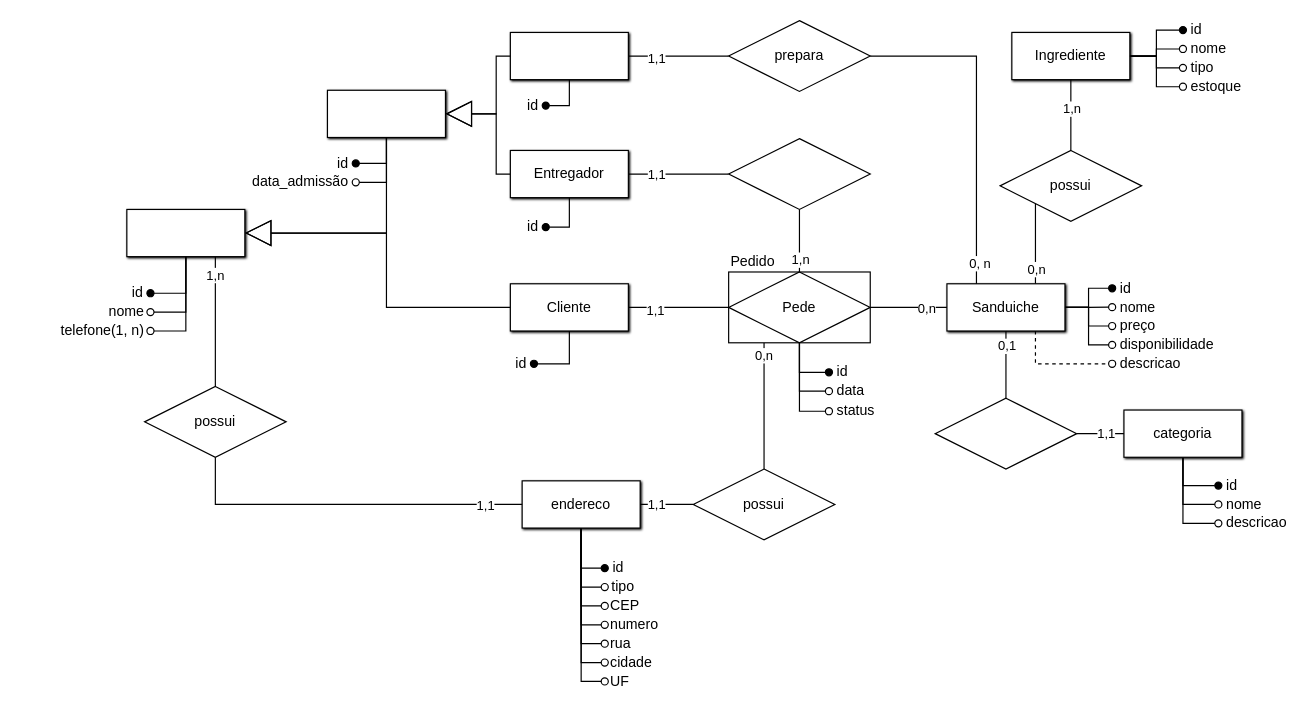
The diagram is 1309 pixels wide and 712 high, and some of its shapes have lost their labels. The shapes that lost their labels are listed below. From the top down, each one's centre as x and y in pixels, then its label:
the point at 569,56: Cozinheiro
the point at 386,114: funcionario
the point at 798,173: entrega
the point at 185,233: pessoa
the point at 1005,433: pertence
